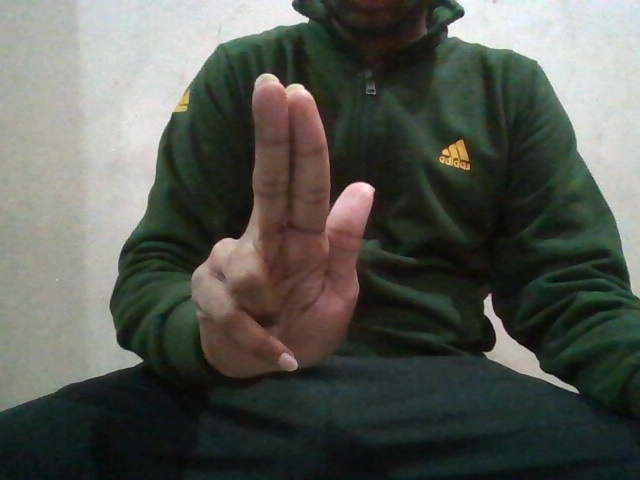K: (183, 66, 380, 386)
